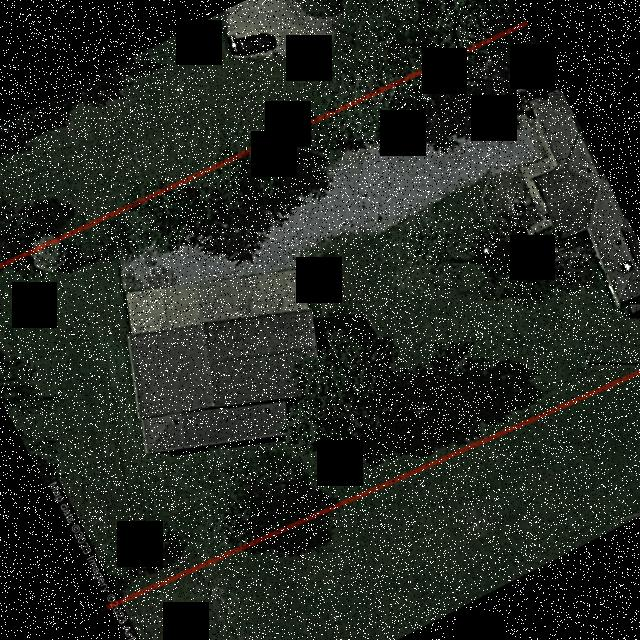Driveway: (114, 89, 544, 291)
House: (521, 91, 640, 304)
Other: (124, 265, 323, 455)
